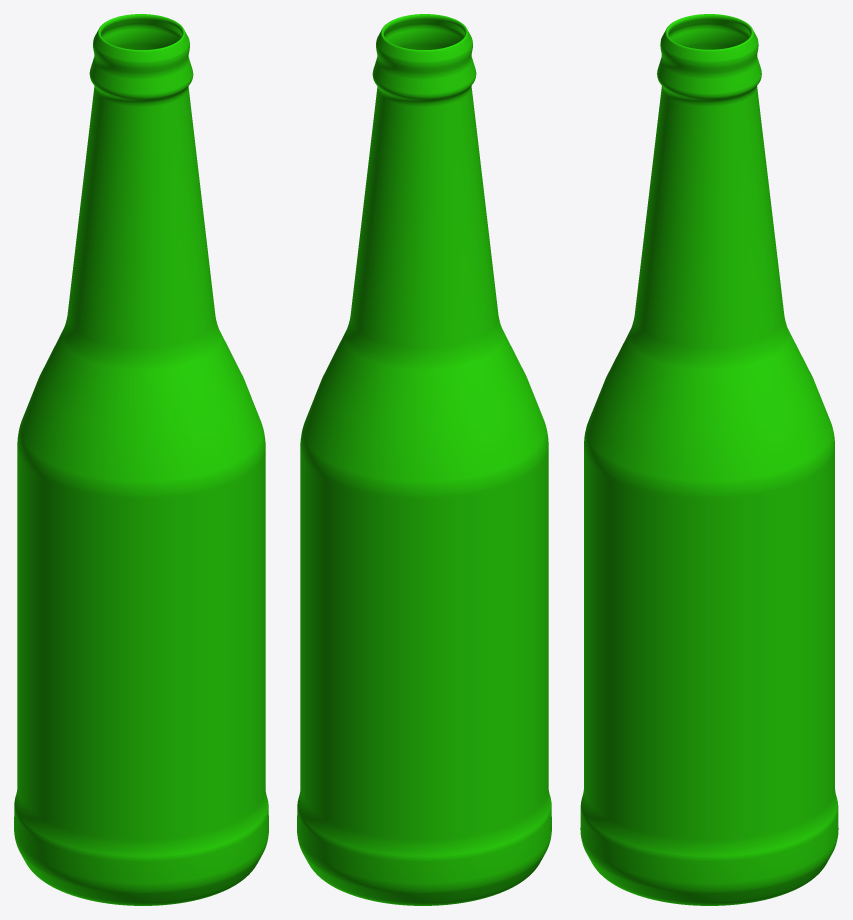
Rendered from yesilBiraSisesi.fbx.
3 views of the same model, side by side, from view 1: azimuth 30°, elevation 25°; view 2: azimuth 150°, elevation 25°; view 3: azimuth 270°, elevation 25° (orthographic).
Parts seen in each view (by area): view 1: Cylinder; view 2: Cylinder; view 3: Cylinder.
Part boxes in pixels (x1,y1,x2,y2): Cylinder: [14, 14, 268, 905]; Cylinder: [297, 14, 551, 905]; Cylinder: [580, 14, 838, 905].
Bounding box in the file's own units: 300 × 1078 × 305.
